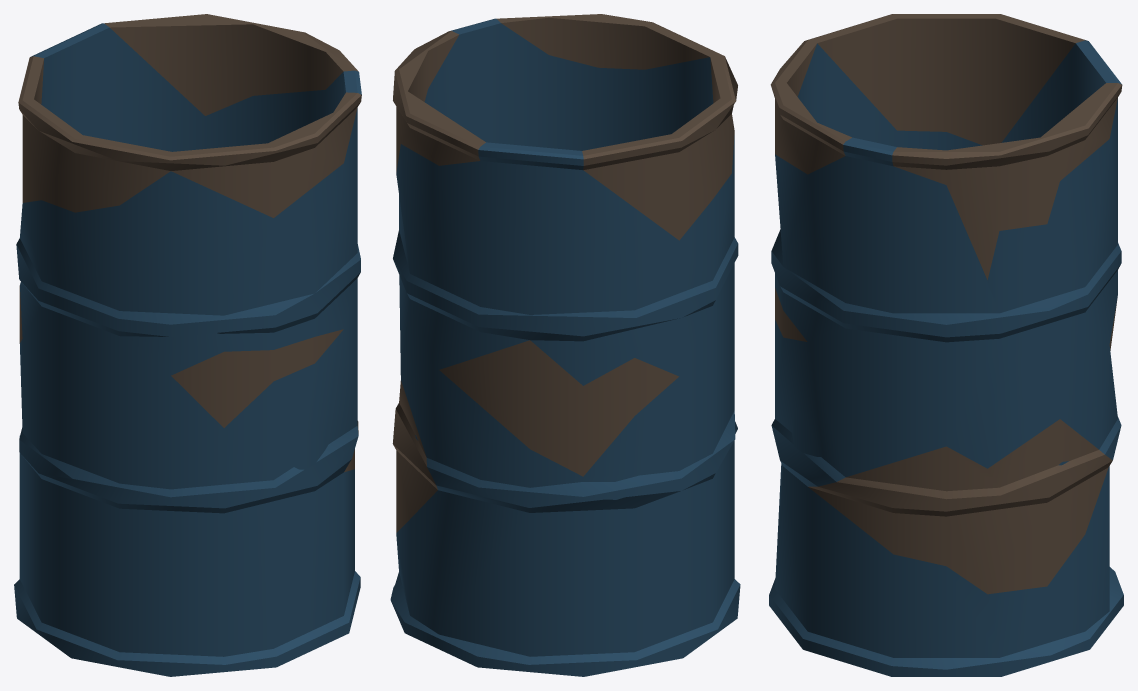
Rendered from cc0-barrel-lod1.glb.
3 renders of one model, left to right at view 1: azimuth 30°, elevation 25°; view 2: azimuth 150°, elevation 25°; view 3: azimuth 270°, elevation 25°, orthographic.
Visible parts, largest first — view 1: part_0; view 2: part_0; view 3: part_0.
Part boxes in pixels (x1,y1,x2,y2): part_0: (14,14,361,676); part_0: (390,14,740,676); part_0: (769,14,1123,676).
Bounding box in the file's own units: 0.7041 × 1.14 × 0.7041.
Materials: 1 (1 with a texture image).
